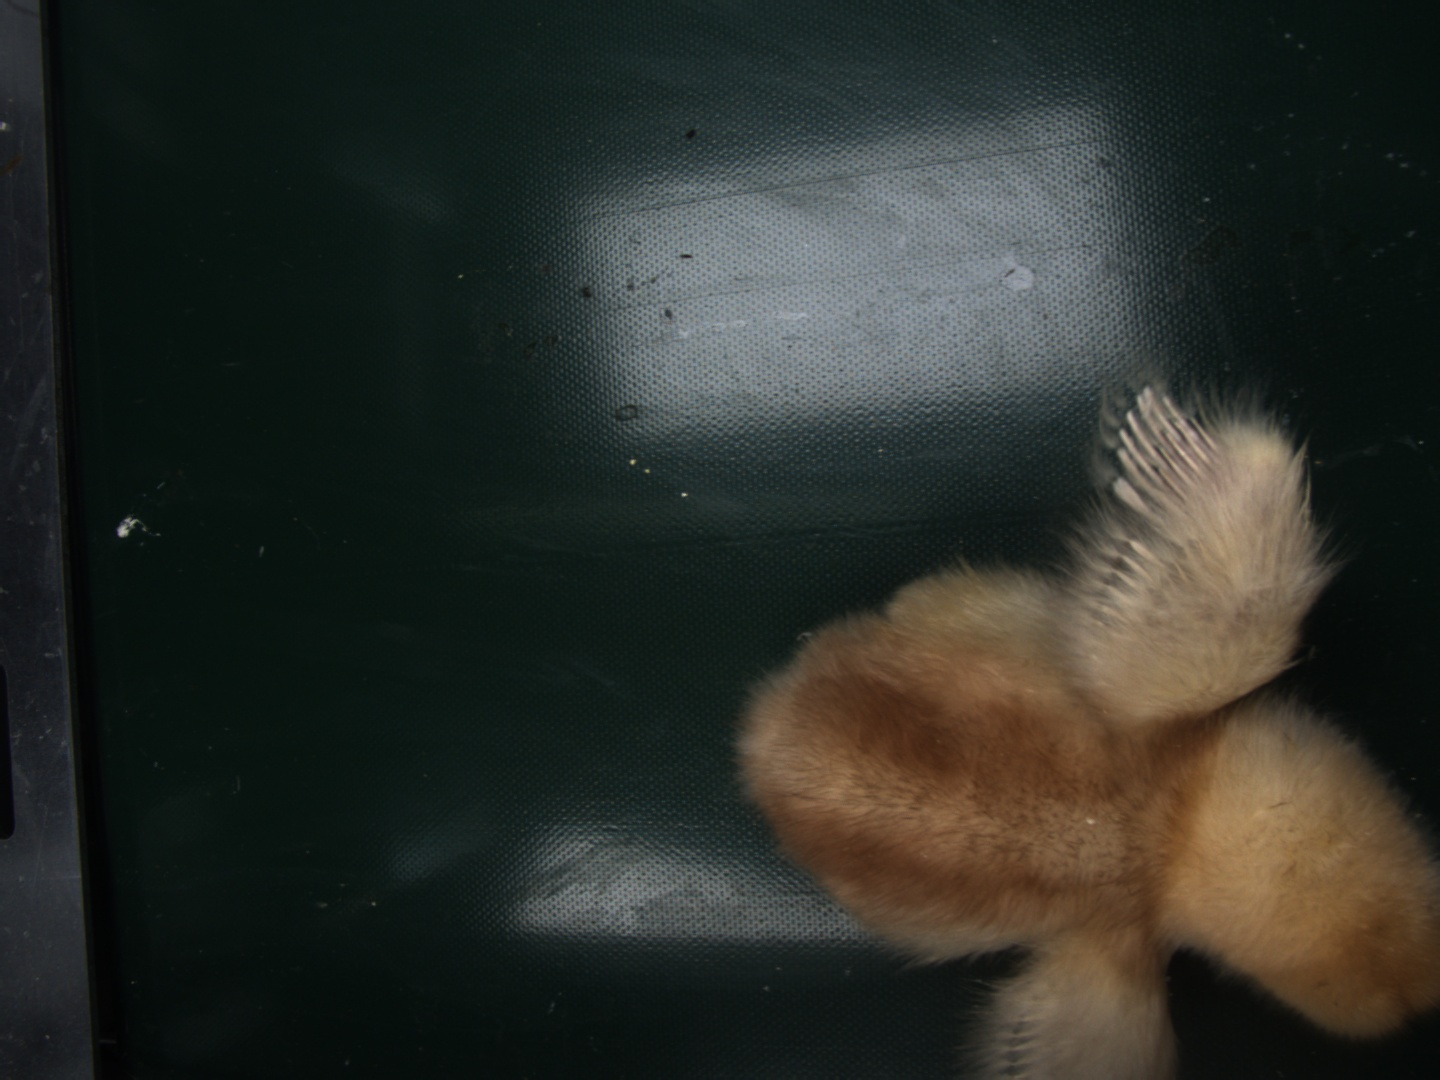female: (1106, 386, 1218, 518)
